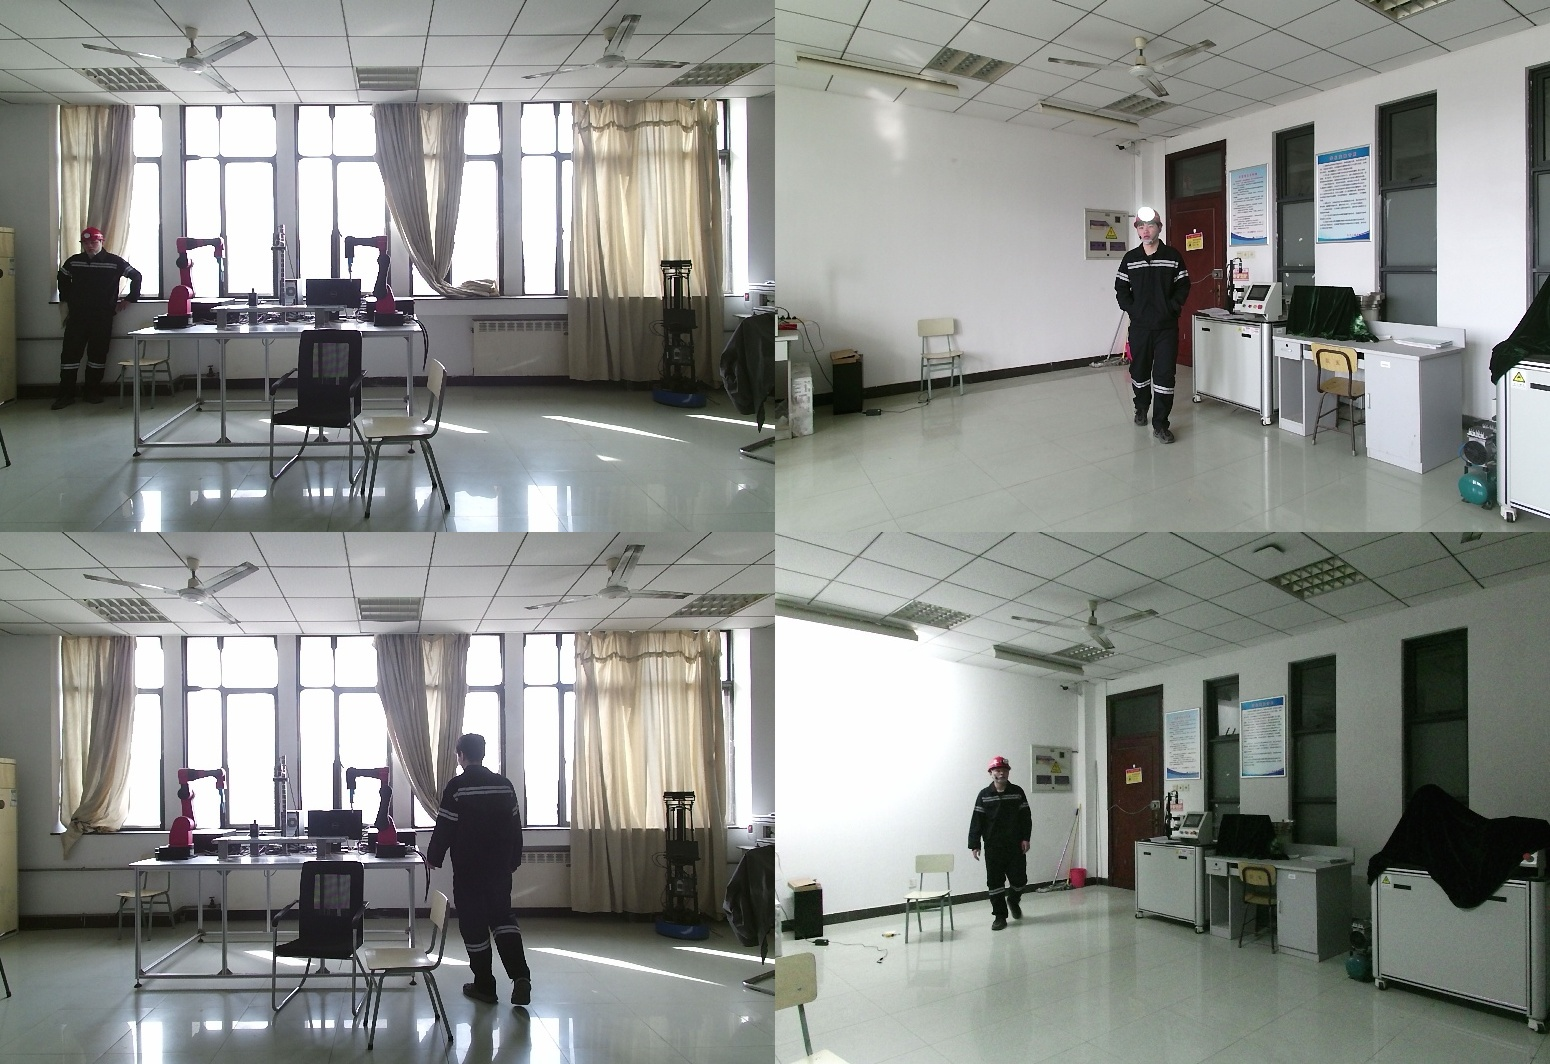person: (432, 736, 538, 1006), (1114, 213, 1197, 442), (53, 226, 142, 404), (972, 759, 1037, 932)
